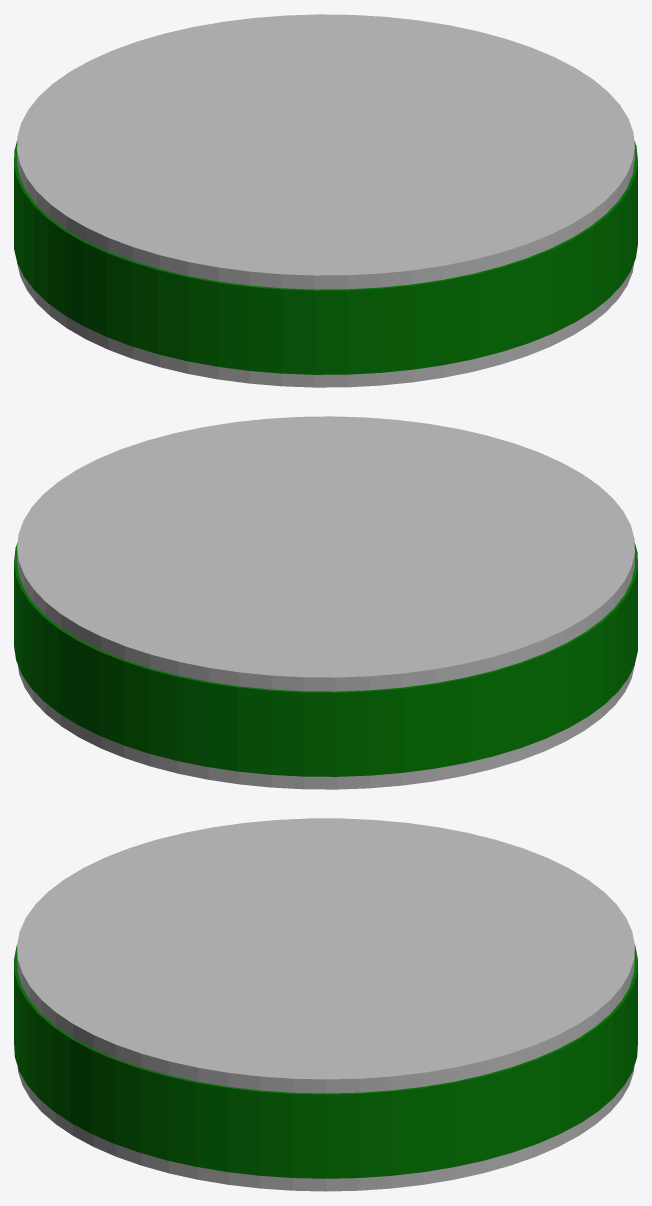
The model's file is disc_100.dae.
3 views of the same model, one above another, from view 1: azimuth 30°, elevation 25°; view 2: azimuth 150°, elevation 25°; view 3: azimuth 270°, elevation 25° (orthographic).
Parts seen in each view (by area): view 1: node0, node1; view 2: node0, node1; view 3: node0, node1.
Part boxes in pixels (bbox=[...]): node0: bbox=[17, 14, 634, 387]; node1: bbox=[14, 140, 637, 374]; node0: bbox=[17, 416, 634, 789]; node1: bbox=[14, 542, 637, 776]; node0: bbox=[17, 818, 634, 1191]; node1: bbox=[14, 944, 637, 1178].
Size of the model in its own units: 0.1009 by 0.101 by 0.02.
